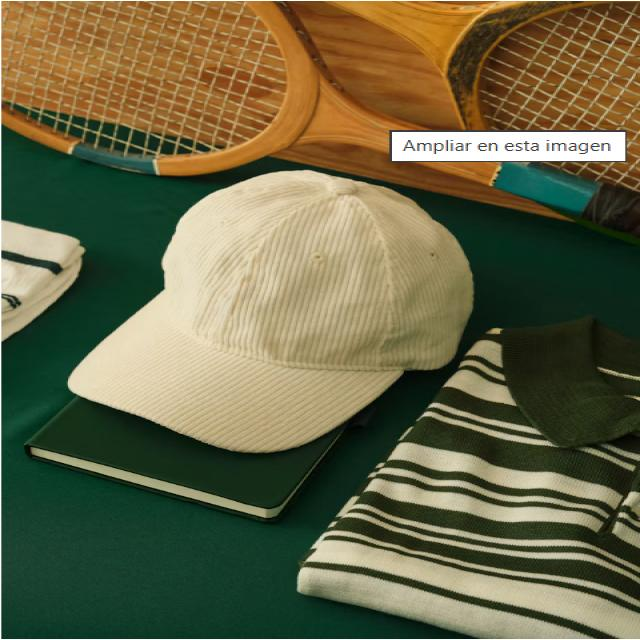Gorra: (64, 166, 482, 454)
